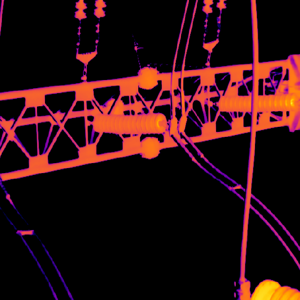insulator: (91, 108, 165, 135), (217, 90, 297, 111), (73, 0, 87, 19), (94, 0, 105, 16)
